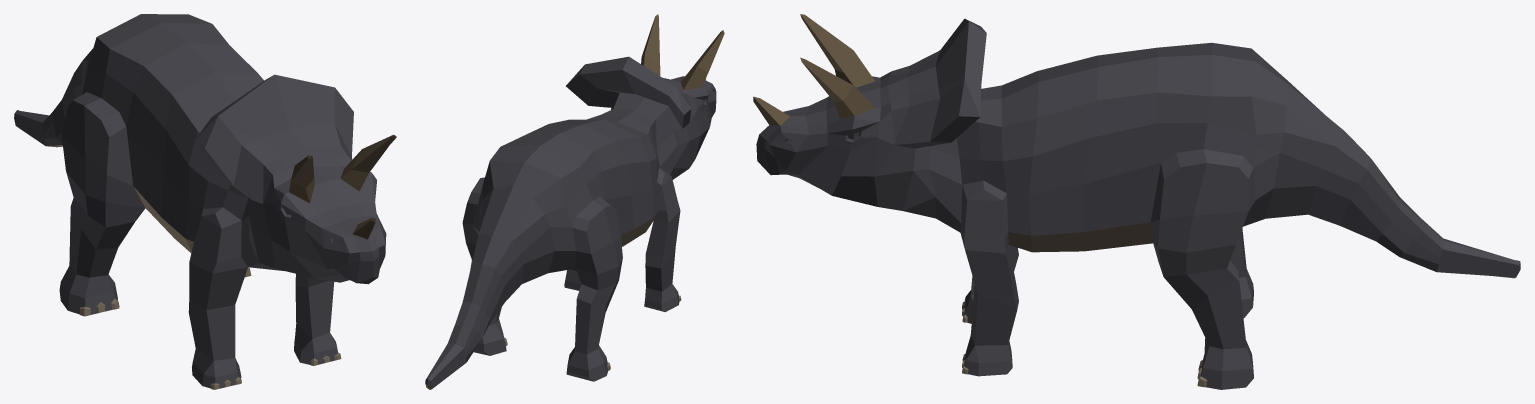
The model's file is dinosaurs-2.glb.
The picture shows the model from 3 angles, left to right: view 1: azimuth 30°, elevation 25°; view 2: azimuth 150°, elevation 25°; view 3: azimuth 270°, elevation 25°; orthographic projection. The views are drawn at different scales.
Parts seen in each view (by area): view 1: Triceratops; view 2: Triceratops; view 3: Triceratops.
Boxes of the visible parts, x1,y1,x2,y2 form: Triceratops: (14,14,396,389); Triceratops: (425,14,724,389); Triceratops: (753,14,1520,389).
Size of the model in its own units: 5.84 by 9.43 by 20.34.
